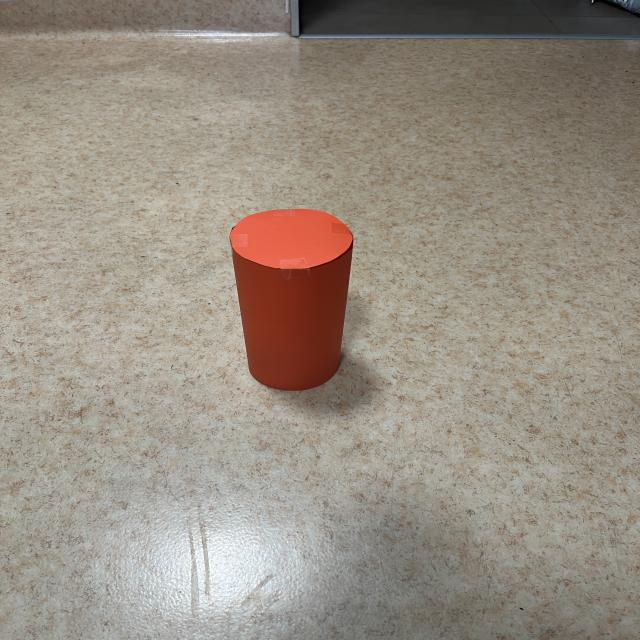przeszkoda: (229, 209, 353, 390)
